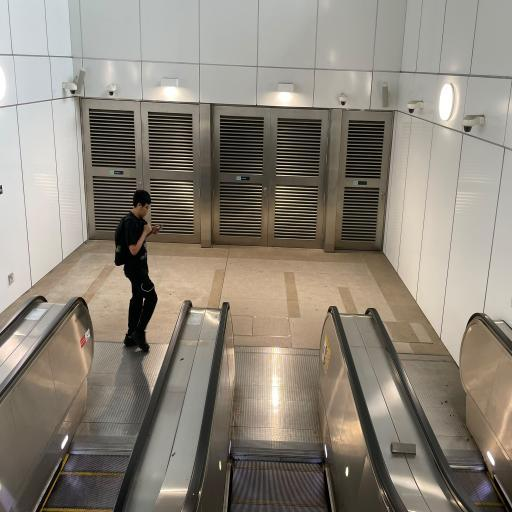person_right: (106, 181, 165, 357)
